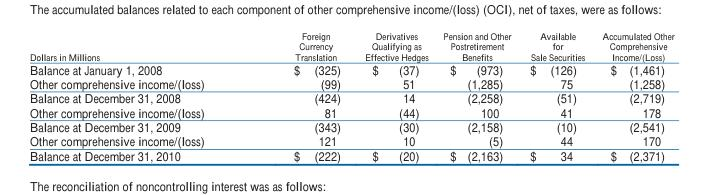table: (28, 28, 673, 163)
table column: (28, 28, 248, 163), (248, 28, 352, 163), (435, 28, 519, 163), (352, 28, 435, 163), (592, 28, 673, 163), (519, 28, 592, 163)
table column header: (28, 28, 673, 61)
table row: (28, 28, 673, 61), (28, 147, 673, 163), (28, 75, 673, 90), (28, 104, 673, 119), (28, 61, 673, 75), (28, 90, 673, 104), (28, 119, 673, 133), (28, 133, 673, 147)
